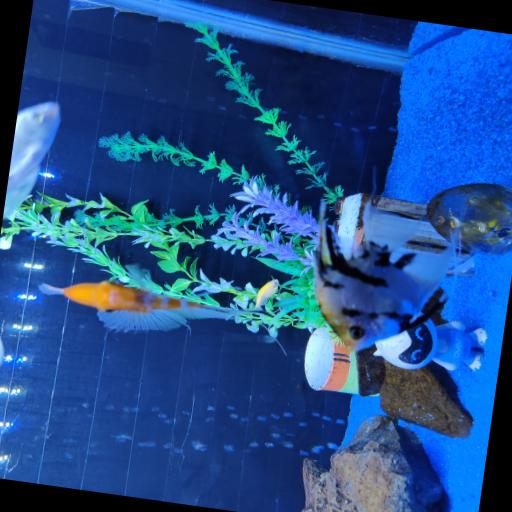Fish: (315, 203, 453, 351), (39, 281, 263, 332), (3, 102, 59, 218), (255, 280, 278, 308), (0, 338, 4, 366)
